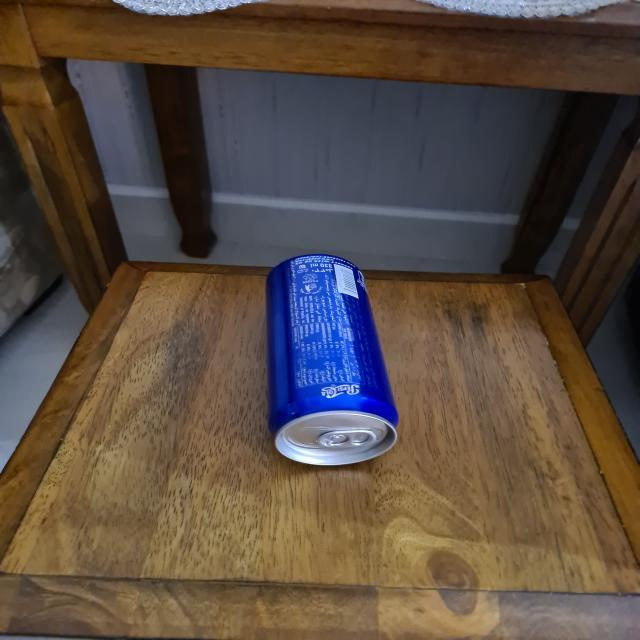can: (264, 252, 399, 467)
